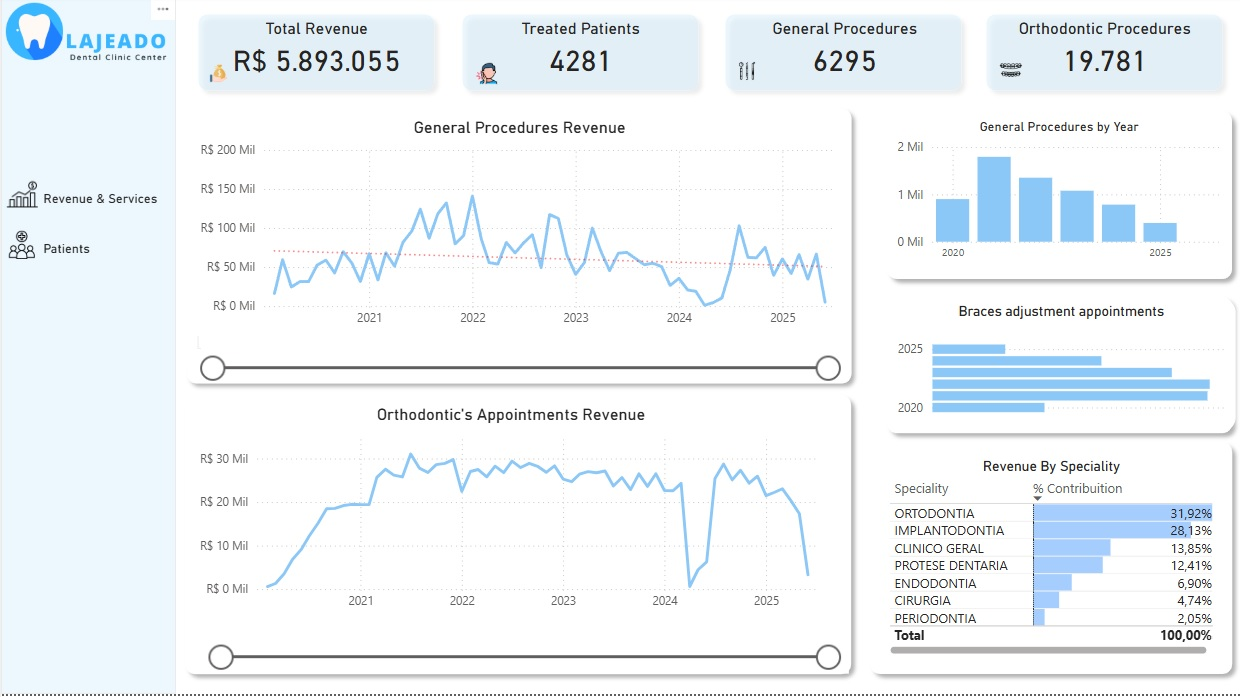

Layout of this report page (visuals, bound fields, positions):
{"tool":"powerbi","page":{"name":"Página 1","canvas":[1280,720],"ordinal":0},"visuals":[{"type":"group","id":"g1","title":"Grupo 2","box":[182.7,107.3,704.3,301.7],"z":0},{"type":"shape","box":[0,0,180.4,720],"z":1000},{"type":"group","id":"g2","title":"Grupo 3","box":[180.6,402.6,706.4,307],"z":2000},{"type":"group","id":"g3","title":"Grupo 5","box":[905,109.4,375,192.3],"z":3000},{"type":"group","id":"g4","title":"Grupo 4","box":[905,301.7,375,159.3],"z":4000},{"type":"group","id":"g5","title":"Grupo 1","box":[887.3,450.8,392.7,258.3],"z":5000},{"type":"group","id":"g6","title":"Grupo 7","box":[193.9,9,263,97.9],"z":6000},{"type":"group","id":"g7","title":"Grupo 8","box":[466.8,9,263,97.9],"z":7000},{"type":"group","id":"g8","title":"Grupo 9","box":[738,9,263,97.9],"z":8000},{"type":"shape","box":[1007.3,9,263,97.9],"z":8000,"group":"g9"},{"type":"shape","box":[738,9,263,97.9],"z":9000,"group":"g8"},{"type":"group","id":"g9","title":"Grupo 10","box":[1007.3,9,263,97.9],"z":9000},{"type":"card","title":"Orthodontic Procedures","fields":{"Values":["Count(clinicalajeado orthodontic_payments.LANCTO)"]},"box":[1023.5,22.5,230.7,70.9],"z":9000,"group":"g9"},{"type":"card","title":"General Procedures","fields":{"Values":["Count(clinicalajeado executed_procedures.LANCTO)"]},"box":[755.1,22.5,230.7,70.9],"z":10000,"group":"g8"},{"type":"image","box":[483,63.7,35,32.3],"z":10000},{"type":"shape","box":[193.9,9,263,97.9],"z":11000,"group":"g6"},{"type":"image","box":[755.9,61,28.7,33.2],"z":11000},{"type":"card","title":"Total Revenue","fields":{"Values":["Sum(clinicalajeado totalsales.Result)"]},"box":[210.1,22.5,230.7,70.9],"z":12000,"group":"g6"},{"type":"image","box":[1023.4,60.1,38.6,33.2],"z":12000},{"type":"shape","box":[466.8,9,263,97.9],"z":12250,"group":"g7"},{"type":"card","title":"Treated Patients","fields":{"Values":["Sum(clinicalajeado totalpatients.Total patients that initiated trataments)"]},"box":[483,22.5,230.7,70.9],"z":12500,"group":"g7"},{"type":"image","box":[210.1,61.9,27.8,35],"z":13000},{"type":"shape","box":[905,109.4,375,192.3],"z":13000,"group":"g3"},{"type":"columnChart","title":"General Procedures by Year","fields":{"Category":["clinicalajeado direct_payments.DATA.Variation.Hierarquia de datas.Ano","clinicalajeado direct_payments.DATA.Variation.Hierarquia de datas.Trimestre","clinicalajeado direct_payments.DATA.Variation.Hierarquia de datas.Mês","clinicalajeado direct_payments.DATA.Variation.Hierarquia de datas.Dia"],"Y":["CountNonNull(clinicalajeado direct_payments.EMISSAO)"]},"box":[919.3,127.2,345.1,155.7],"z":14000,"group":"g3"},{"type":"image","box":[0,237,44,38.6],"z":14000},{"type":"shape","box":[905,301.7,375,159.3],"z":14000,"group":"g4"},{"type":"shape","box":[180.6,402.6,706.4,307],"z":14000,"group":"g2"},{"type":"slicer","fields":{"Values":["clinicalajeado orthodontic_payments.DATA_ATEND"]},"box":[197.7,624.1,676.7,74.7],"z":14375,"group":"g2"},{"type":"lineChart","title":"Orthodontic''s Appointments Revenue","fields":{"Y":["Sum(clinicalajeado orthodontic_payments.VALOR_PARCELA)"],"Category":["clinicalajeado orthodontic_payments.DATA_ATEND.Variation.Hierarquia de datas.Ano","clinicalajeado orthodontic_payments.DATA_ATEND.Variation.Hierarquia de datas.Mês"]},"box":[194.3,416.1,663,232.3],"z":14500,"group":"g2"},{"type":"image","box":[0,184,44,42.2],"z":15000},{"type":"barChart","title":"Braces adjustment appointments","fields":{"Y":["CountNonNull(clinicalajeado orthodontic_payments.NUM_MAN)"],"Category":["clinicalajeado orthodontic_payments.DATA_ATEND.Variation.Hierarquia de datas.Ano","clinicalajeado orthodontic_payments.DATA_ATEND.Variation.Hierarquia de datas.Trimestre","clinicalajeado orthodontic_payments.DATA_ATEND.Variation.Hierarquia de datas.Mês","clinicalajeado orthodontic_payments.DATA_ATEND.Variation.Hierarquia de datas.Dia"]},"box":[912.5,312.5,361.8,137.8],"z":15000,"group":"g4"},{"type":"shape","box":[208,633.1,252.6,30.6],"z":15000,"group":"g2"},{"type":"shape","box":[887.3,450.8,392.7,258.3],"z":15001,"group":"g5"},{"type":"shape","box":[182.7,107.3,704.3,301.7],"z":15125,"group":"g1"},{"type":"tableEx","title":"Revenue By Speciality","fields":{"Values":["clinicalajeado revenue_by_speciality.category","Sum(clinicalajeado revenue_by_speciality.revenue_by_specialty)"]},"box":[904.7,470.9,356,218.9],"z":15501,"group":"g5"},{"type":"slicer","fields":{"Values":["clinicalajeado direct_payments.DATA"]},"box":[189.6,326.2,684.9,73.6],"z":15750,"group":"g1"},{"type":"shape","box":[206.7,347.7,251.8,21.5],"z":15875,"group":"g1"},{"type":"lineChart","title":"General Procedures Revenue","fields":{"Category":["clinicalajeado direct_payments.DATA.Variation.Hierarquia de datas.Ano","clinicalajeado direct_payments.DATA.Variation.Hierarquia de datas.Mês"],"Y":["Sum(clinicalajeado direct_payments.VRLIQUIDO)"]},"box":[199.6,124.4,670.5,226.3],"z":16000,"group":"g1"},{"type":"textbox","box":[32.3,194.8,149.9,83.5],"z":16000},{"type":"actionButton","box":[0,236.1,180.4,46.7],"z":17000},{"type":"image","box":[0,0,180.4,184],"z":18000}]}

Visuals, with their boxes on the page's 1280x720 design canvas (x1, y1, x2, y2). These are canvas units, not pixel positions in the 1240x697 screenshot, which may show the page scaled, cropped or inside an application window:
"Grupo 2" group: locate(183, 107, 887, 409)
shape: locate(0, 0, 180, 720)
"Grupo 3" group: locate(181, 403, 887, 710)
"Grupo 5" group: locate(905, 109, 1280, 302)
"Grupo 4" group: locate(905, 302, 1280, 461)
"Grupo 1" group: locate(887, 451, 1280, 709)
"Grupo 7" group: locate(194, 9, 457, 107)
"Grupo 8" group: locate(467, 9, 730, 107)
"Grupo 9" group: locate(738, 9, 1001, 107)
shape: locate(1007, 9, 1270, 107)
shape: locate(738, 9, 1001, 107)
"Grupo 10" group: locate(1007, 9, 1270, 107)
"Orthodontic Procedures" card: locate(1024, 22, 1254, 93)
"General Procedures" card: locate(755, 22, 986, 93)
image: locate(483, 64, 518, 96)
shape: locate(194, 9, 457, 107)
image: locate(756, 61, 785, 94)
"Total Revenue" card: locate(210, 22, 441, 93)
image: locate(1023, 60, 1062, 93)
shape: locate(467, 9, 730, 107)
"Treated Patients" card: locate(483, 22, 714, 93)
image: locate(210, 62, 238, 97)
shape: locate(905, 109, 1280, 302)
"General Procedures by Year" columnChart: locate(919, 127, 1264, 283)
image: locate(0, 237, 44, 276)
shape: locate(905, 302, 1280, 461)
shape: locate(181, 403, 887, 710)
slicer - clinicalajeado orthodontic_payments.DATA_ATEND: locate(198, 624, 874, 699)
"Orthodontic''s Appointments Revenue" lineChart: locate(194, 416, 857, 648)
image: locate(0, 184, 44, 226)
"Braces adjustment appointments" barChart: locate(912, 312, 1274, 450)
shape: locate(208, 633, 461, 664)
shape: locate(887, 451, 1280, 709)
shape: locate(183, 107, 887, 409)
"Revenue By Speciality" tableEx: locate(905, 471, 1261, 690)
slicer - clinicalajeado direct_payments.DATA: locate(190, 326, 874, 400)
shape: locate(207, 348, 458, 369)
"General Procedures Revenue" lineChart: locate(200, 124, 870, 351)
textbox: locate(32, 195, 182, 278)
actionButton: locate(0, 236, 180, 283)
image: locate(0, 0, 180, 184)
